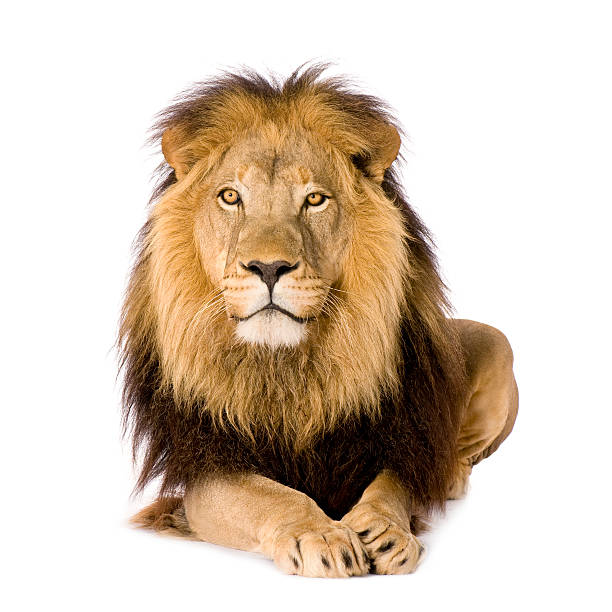lion: (99, 41, 509, 514)
